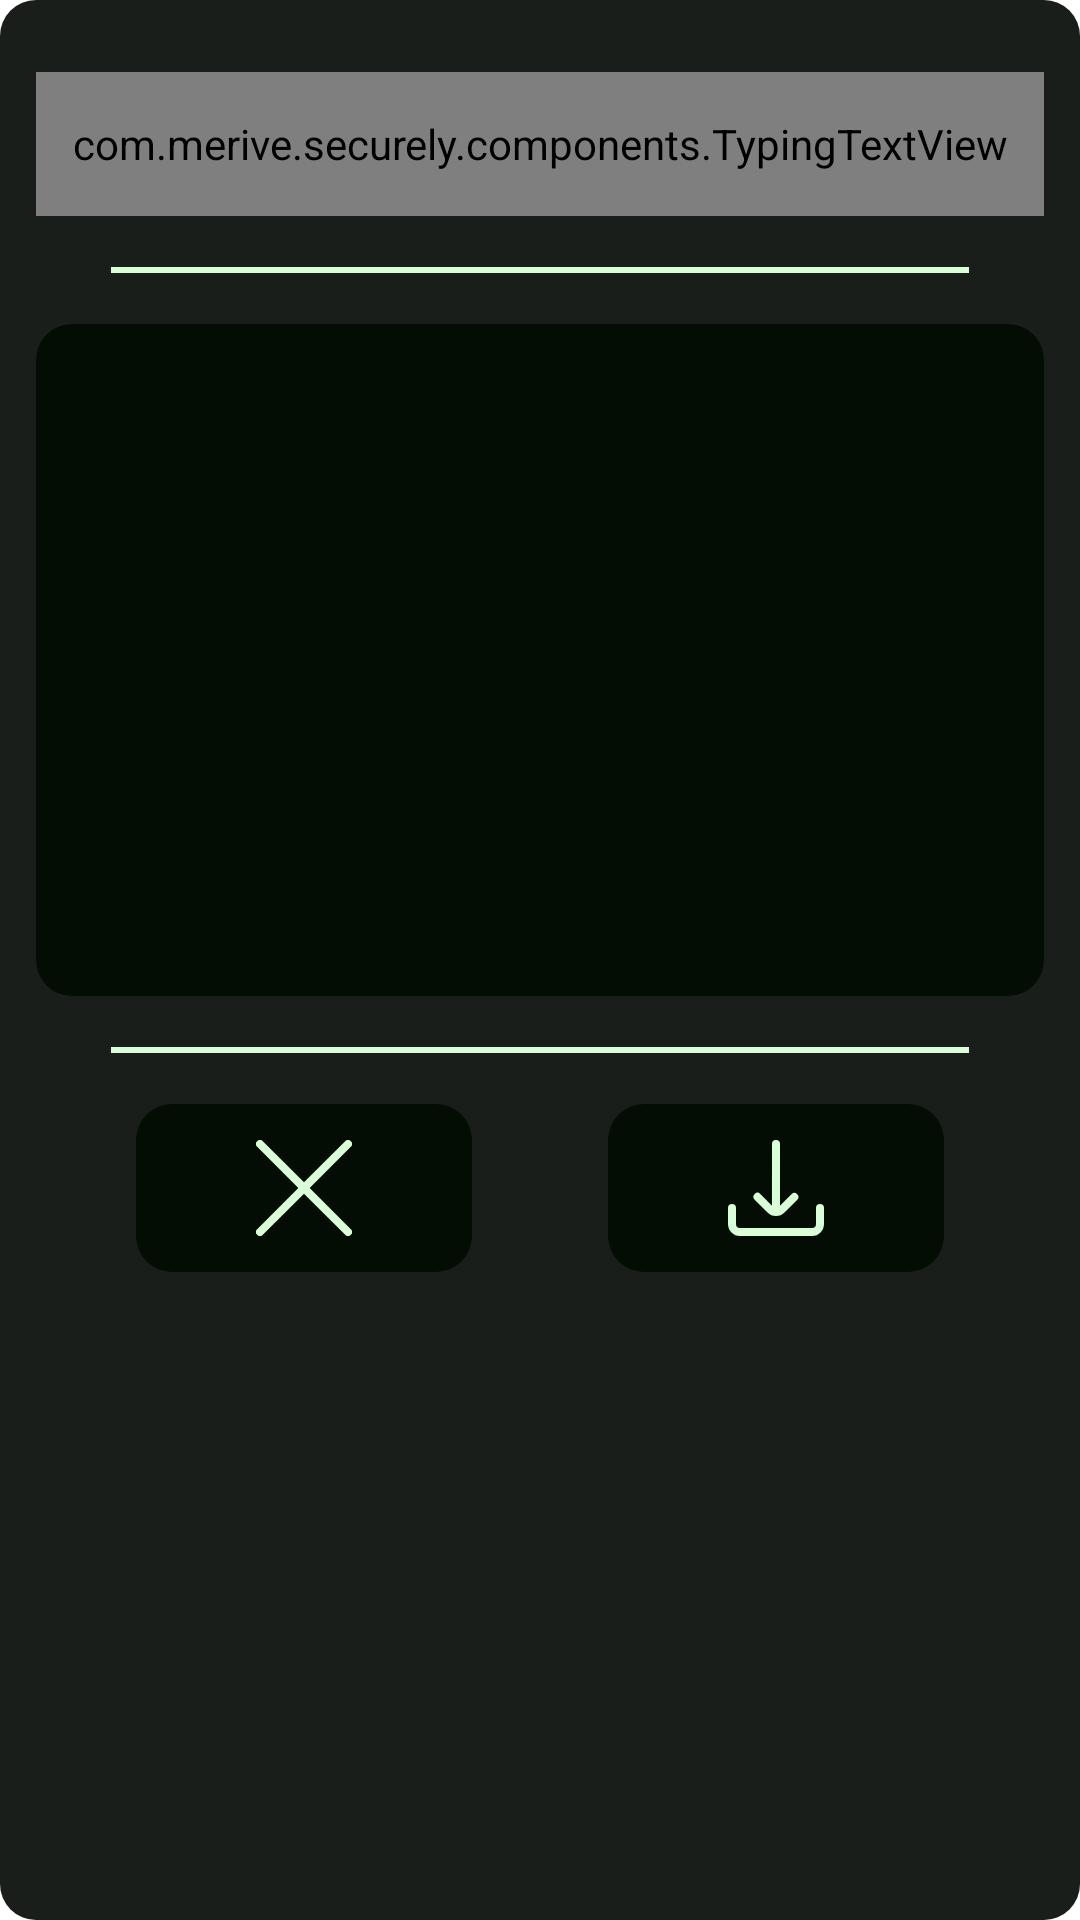

Locate icon controls on the screen. Image size 1080×1920, boxes as box=[x1, y1, x2, y2].
cancel: box=[136, 1104, 472, 1272]
download: box=[608, 1104, 944, 1272]
